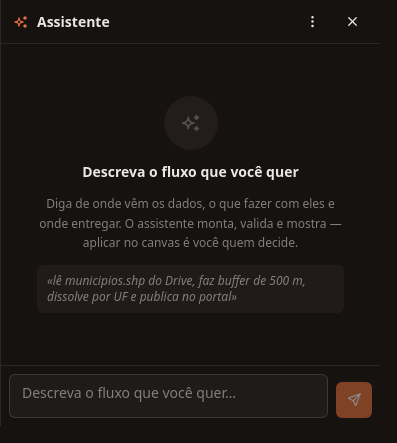
Test: gaveta do assistente › validação com erro é dita em voz alta, e não some
Type "monta um buffer de 500m" into the text box named "Mensagem para o assistente".
click(168, 396); type("monta um buffer de 500m")  # box [9, 374, 328, 418]
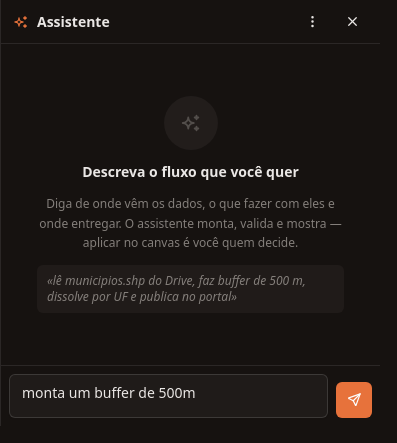
Submit the form named "Mensagem para o assistente", box [1, 364, 380, 426]
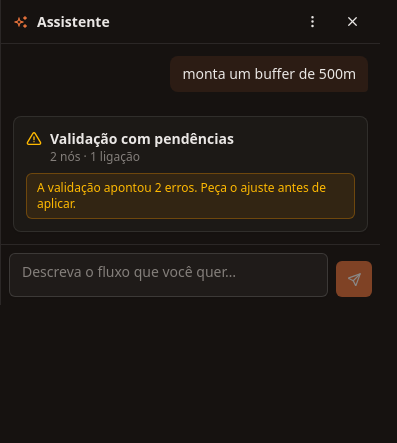
expect the text "Validação com pendências" is shown: met, box [50, 129, 234, 148]
expect the text "A validação apontou 2 erros. Peça o ajuste antes de aplicar." is shown: met, box [26, 173, 355, 219]
